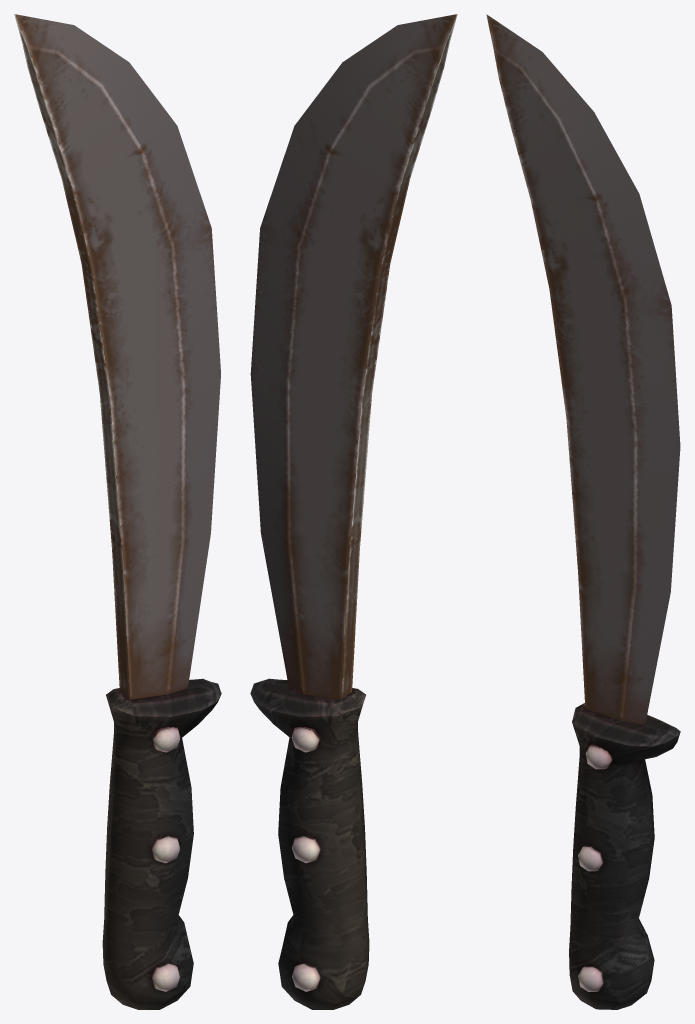
Rendered from facao.fbx.
3 views of the same model, side by side, from view 1: azimuth 30°, elevation 25°; view 2: azimuth 150°, elevation 25°; view 3: azimuth 330°, elevation 25° (orthographic). The views are drawn at different scales.
Visible parts, largest first — view 1: Facão; view 2: Facão; view 3: Facão.
Part boxes in pixels (x1,y1,x2,y2): Facão: [14, 14, 221, 1009]; Facão: [250, 14, 457, 1009]; Facão: [486, 14, 680, 1009].
Size of the model in its own units: 18.75 by 88.58 by 8.11.
Materials: 1 (1 with a texture image).
